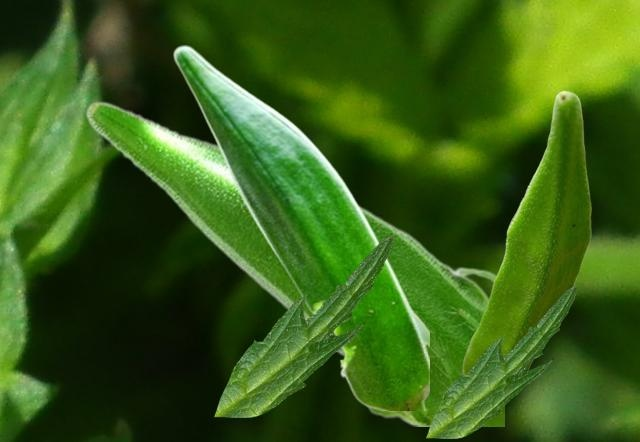okra: (84, 100, 503, 425), (172, 45, 428, 409), (462, 90, 590, 373)
